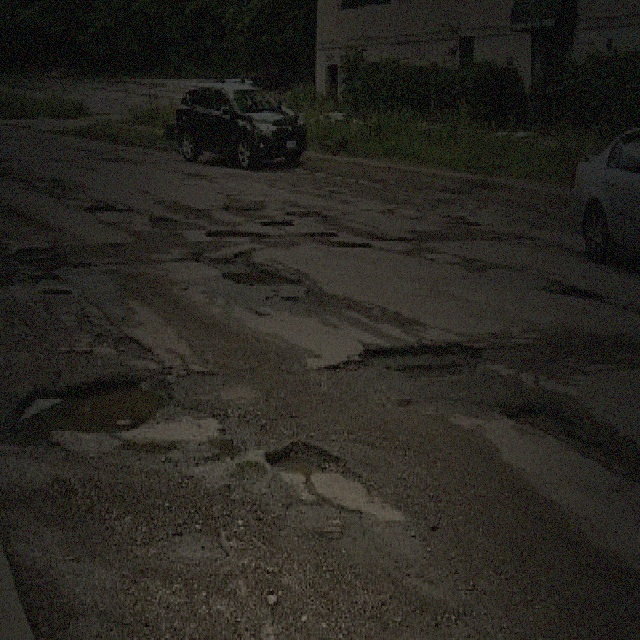pothole: (5, 369, 173, 450), (260, 435, 390, 516), (322, 335, 484, 382), (501, 401, 574, 437), (218, 262, 302, 288)
